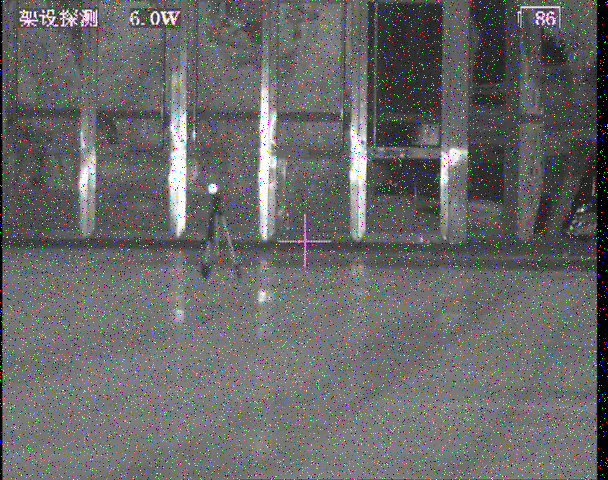my: (207, 182, 217, 195)
